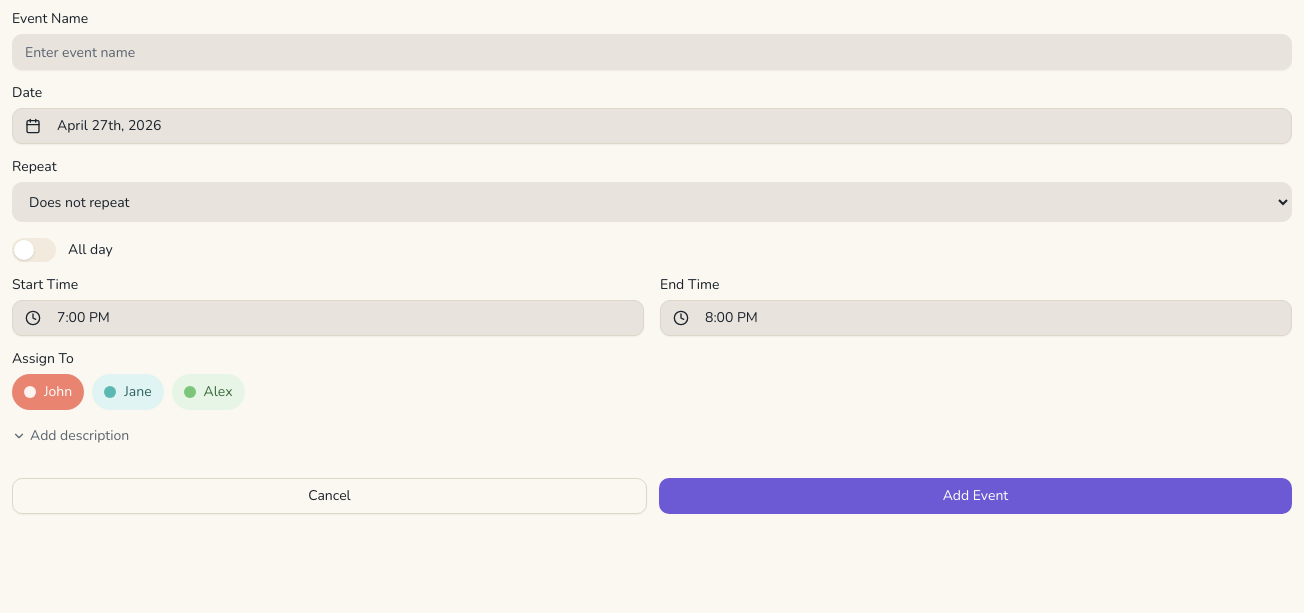
EventForm › Description Field › shows description textarea when 'Add description' is clicked
The width and height of the screenshot is (1304, 613).
Click the button "Add description": (71, 436) [12,426,129,446]
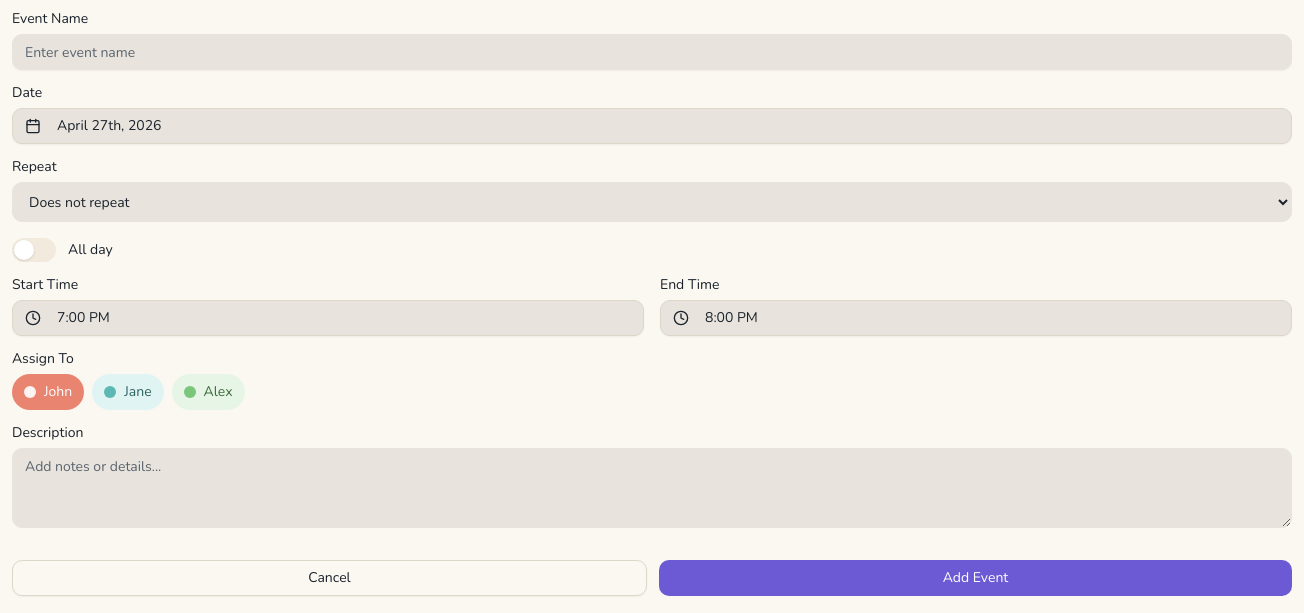
Check: the text box labelled "Description" is shown, box [12,448,1292,528]
